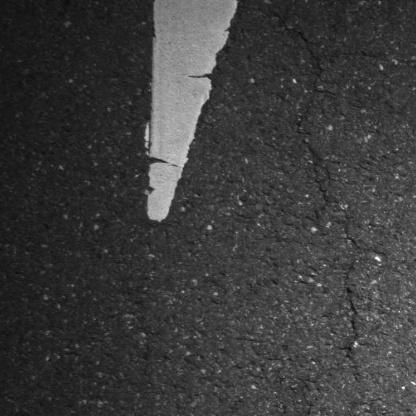Cracks: (297, 33, 340, 211), (341, 264, 362, 363), (302, 392, 319, 416)
